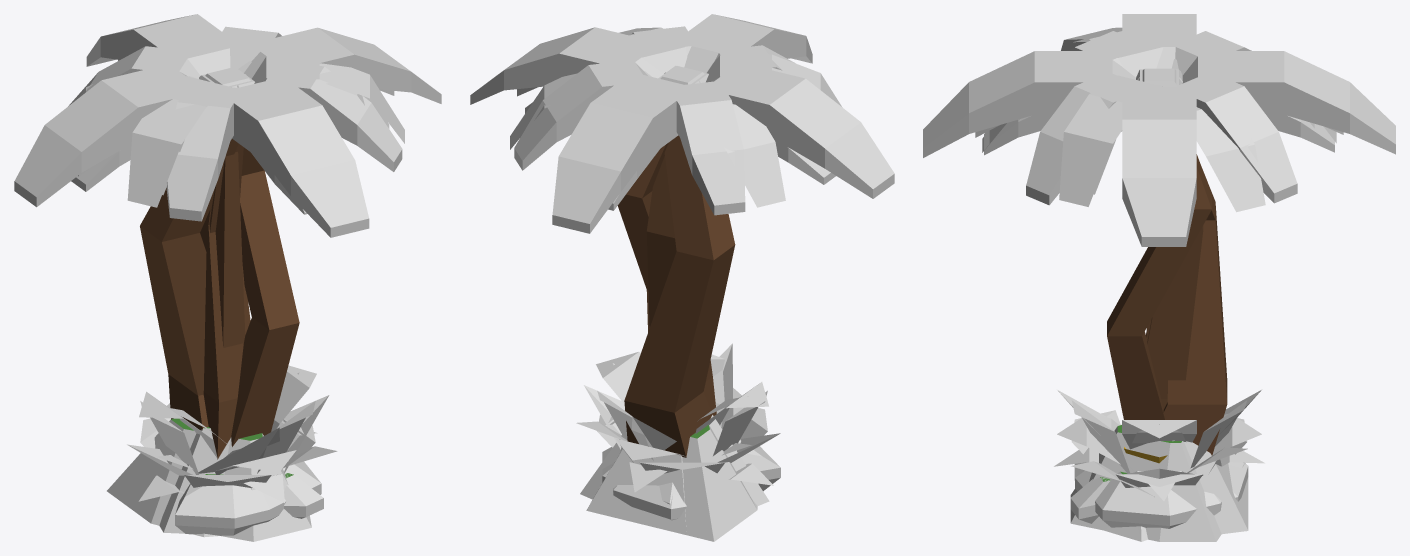
File: brasil.glb
3 renders of one model, left to right at view 1: azimuth 30°, elevation 25°; view 2: azimuth 150°, elevation 25°; view 3: azimuth 270°, elevation 25°, orthographic. The views are drawn at different scales.
Visible parts, largest first — view 1: tree_palmShort, tree_palmBend, tree_palmDetailedTall, tree_palmTall, tree_palm, rock_smallB, rock_largeC, plant_bushLarge, plant_bush, plant_bushSmall, rock_smallA, plant_bushDetailed (+2 smaller); view 2: tree_palmShort, tree_palmDetailedTall, tree_palmBend, tree_palmTall, rock_smallB, rock_smallA, tree_palm, plant_bushLarge, plant_bush, plant_bushSmall, plant_bushDetailed, rock_largeA (+2 smaller); view 3: tree_palmShort, tree_palmBend, tree_palmDetailedTall, tree_palmTall, rock_smallB, rock_largeC, tree_palm, plant_bushLarge, plant_bush, rock_smallA, plant_bushDetailed, rock_largeA (+3 smaller).
Part boxes in pixels (x1=…): tree_palmShort: x1=14, y1=14, x2=441, y2=430; tree_palmBend: x1=79, y1=28, x2=404, y2=446; tree_palmDetailedTall: x1=68, y1=26, x2=402, y2=232; tree_palmTall: x1=78, y1=26, x2=394, y2=459; tree_palm: x1=162, y1=31, x2=389, y2=347; rock_smallB: x1=107, y1=418, x2=311, y2=541; rock_largeC: x1=175, y1=461, x2=321, y2=535; plant_bushLarge: x1=140, y1=401, x2=315, y2=487; plant_bush: x1=139, y1=365, x2=316, y2=474; plant_bushSmall: x1=127, y1=395, x2=329, y2=475; rock_smallA: x1=159, y1=427, x2=230, y2=533; plant_bushDetailed: x1=138, y1=372, x2=317, y2=502; tree_palmShort: x1=470, y1=14, x2=894, y2=457; tree_palmDetailedTall: x1=514, y1=26, x2=835, y2=215; tree_palmBend: x1=510, y1=27, x2=842, y2=332; tree_palmTall: x1=517, y1=25, x2=777, y2=415; rock_smallB: x1=580, y1=424, x2=757, y2=541; rock_smallA: x1=586, y1=415, x2=769, y2=534; tree_palm: x1=620, y1=31, x2=763, y2=100; plant_bushLarge: x1=597, y1=354, x2=767, y2=473; plant_bush: x1=596, y1=352, x2=768, y2=460; plant_bushSmall: x1=584, y1=343, x2=780, y2=462; plant_bushDetailed: x1=610, y1=363, x2=773, y2=492; rock_largeA: x1=613, y1=485, x2=686, y2=520; tree_palmShort: x1=923, y1=14, x2=1395, y2=455; tree_palmBend: x1=982, y1=27, x2=1336, y2=419; tree_palmDetailedTall: x1=984, y1=31, x2=1334, y2=205; tree_palmTall: x1=975, y1=25, x2=1343, y2=409; rock_smallB: x1=1070, y1=425, x2=1248, y2=541; rock_largeC: x1=1074, y1=462, x2=1244, y2=528; tree_palm: x1=1070, y1=30, x2=1314, y2=340; plant_bushLarge: x1=1071, y1=400, x2=1247, y2=487; plant_bush: x1=1057, y1=418, x2=1261, y2=464; rock_smallA: x1=1172, y1=440, x2=1248, y2=534; plant_bushDetailed: x1=1054, y1=412, x2=1264, y2=500; rock_largeA: x1=1070, y1=462, x2=1248, y2=523.
Size of the model in its own units: 1.86 by 1.9 by 1.86.
